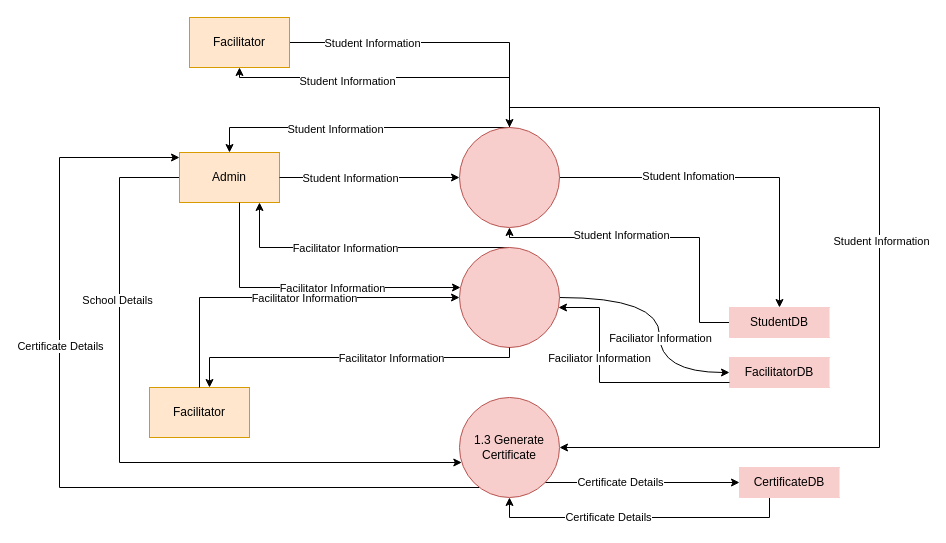
The diagram is 946 pixels wide and 543 high, and some of its shapes have lost their labels. The shapes that lost their labels are listed below. From the top down, each one's centre as x and y in pixels, then its label:
the point at 509,177: 1.1 Manage student info
the point at 509,297: 1.2 Manage Facilitator Info
